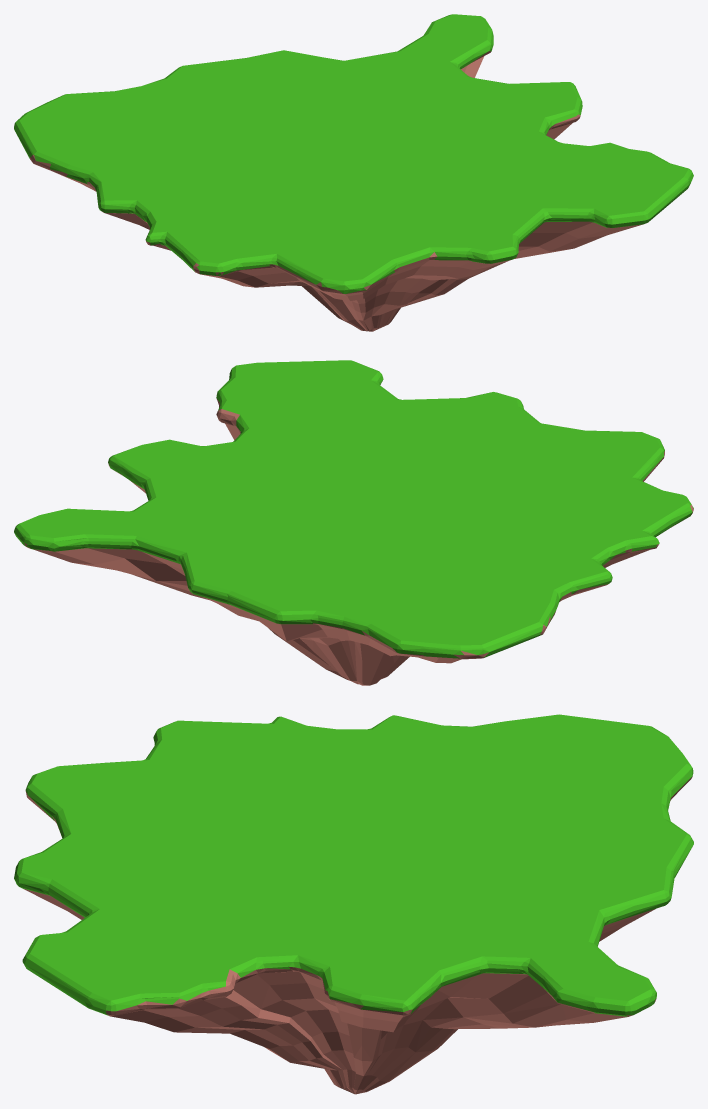
File: island_2.fbx
The picture shows the model from 3 angles, top to bottom: view 1: azimuth 30°, elevation 25°; view 2: azimuth 150°, elevation 25°; view 3: azimuth 270°, elevation 25°; orthographic projection. The views are drawn at different scales.
Parts seen in each view (by area): view 1: Plane; view 2: Plane; view 3: Plane.
Part boxes in pixels (box(x1,y1,x2,y2)): Plane: box(14, 14, 693, 331); Plane: box(14, 360, 693, 685); Plane: box(14, 714, 693, 1094).
Bounding box in the file's own units: 2403 × 869 × 2366.
